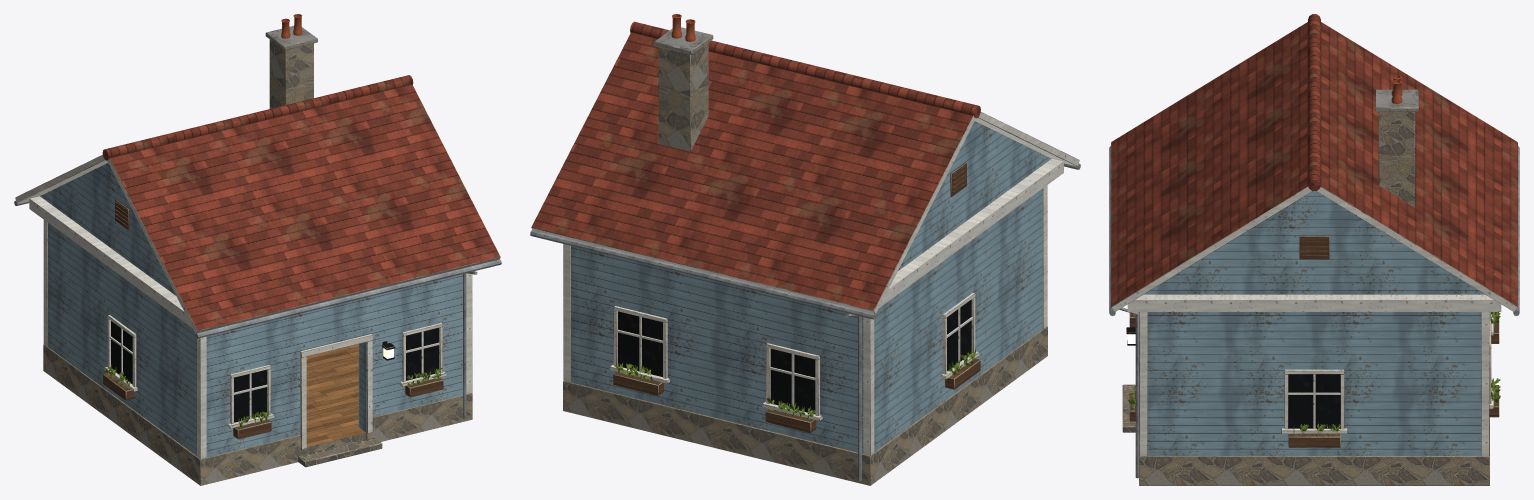
The model's file is house_c.glb.
3 renders of one model, left to right at view 1: azimuth 30°, elevation 25°; view 2: azimuth 150°, elevation 25°; view 3: azimuth 270°, elevation 25°, orthographic. The views are drawn at different scales.
Visible parts, largest first — view 1: house_c_details, house_c_structure; view 2: house_c_details, house_c_structure; view 3: house_c_details, house_c_structure.
Part boxes in pixels (<box>): house_c_details: <box>14,14,501,485</box>; house_c_structure: <box>29,196,462,457</box>; house_c_details: <box>530,14,1080,485</box>; house_c_structure: <box>571,159,1063,453</box>; house_c_details: <box>1109,14,1519,485</box>; house_c_structure: <box>1127,294,1501,455</box>.
Bounding box in the file's own units: 9.04 × 9.46 × 9.45.
Materials: 17 (16 with a texture image).
